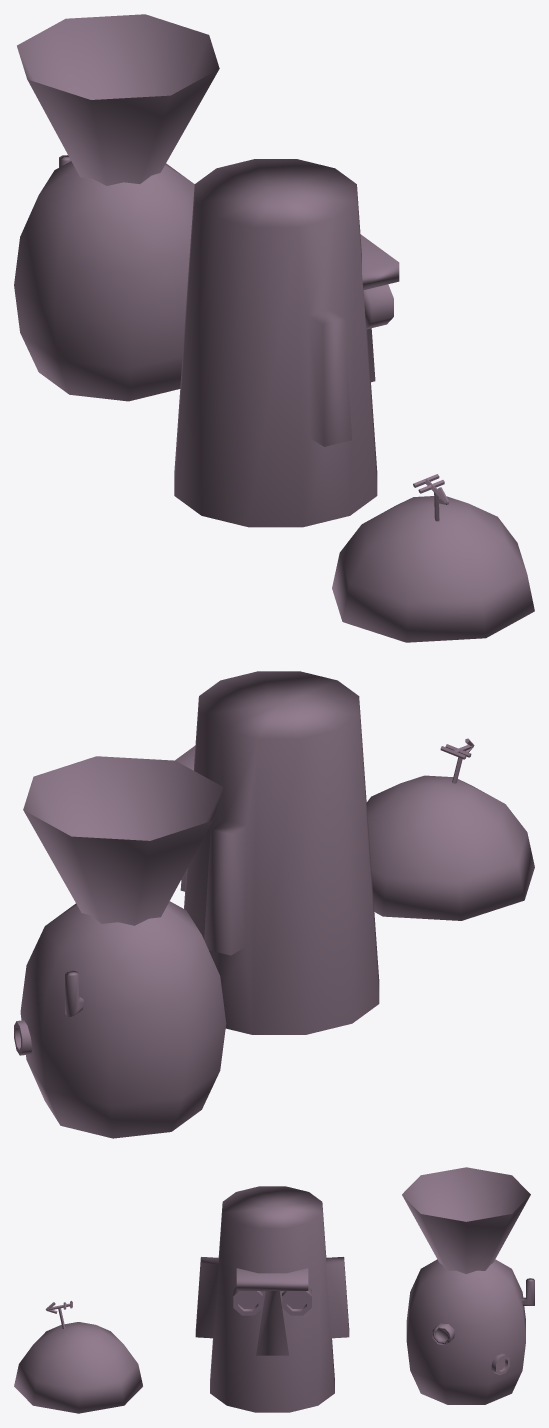
Rendered from DecorSet1_Spongebob.fbx.
3 views of the same model, one above another, from view 1: azimuth 30°, elevation 25°; view 2: azimuth 150°, elevation 25°; view 3: azimuth 270°, elevation 25° (orthographic). The views are drawn at different scales.
Visible parts, largest first — view 1: Decor_Spongebob_House_2, Decor_Spongebob_House_3, Decor_Spongebob_House_1; view 2: Decor_Spongebob_House_3, Decor_Spongebob_House_2, Decor_Spongebob_House_1; view 3: Decor_Spongebob_House_2, Decor_Spongebob_House_3, Decor_Spongebob_House_1.
Part boxes in pixels (left/top/right/bottom): Decor_Spongebob_House_2: left=174, top=159, right=399, bottom=527; Decor_Spongebob_House_3: left=14, top=14, right=219, bottom=401; Decor_Spongebob_House_1: left=332, top=474, right=534, bottom=642; Decor_Spongebob_House_3: left=14, top=756, right=226, bottom=1138; Decor_Spongebob_House_2: left=175, top=671, right=379, bottom=1034; Decor_Spongebob_House_1: left=366, top=738, right=534, bottom=920; Decor_Spongebob_House_2: left=195, top=1186, right=349, bottom=1412; Decor_Spongebob_House_3: left=402, top=1167, right=534, bottom=1404; Decor_Spongebob_House_1: left=14, top=1301, right=142, bottom=1413.
Size of the model in its own units: 2.04 by 3.27 by 8.06.
